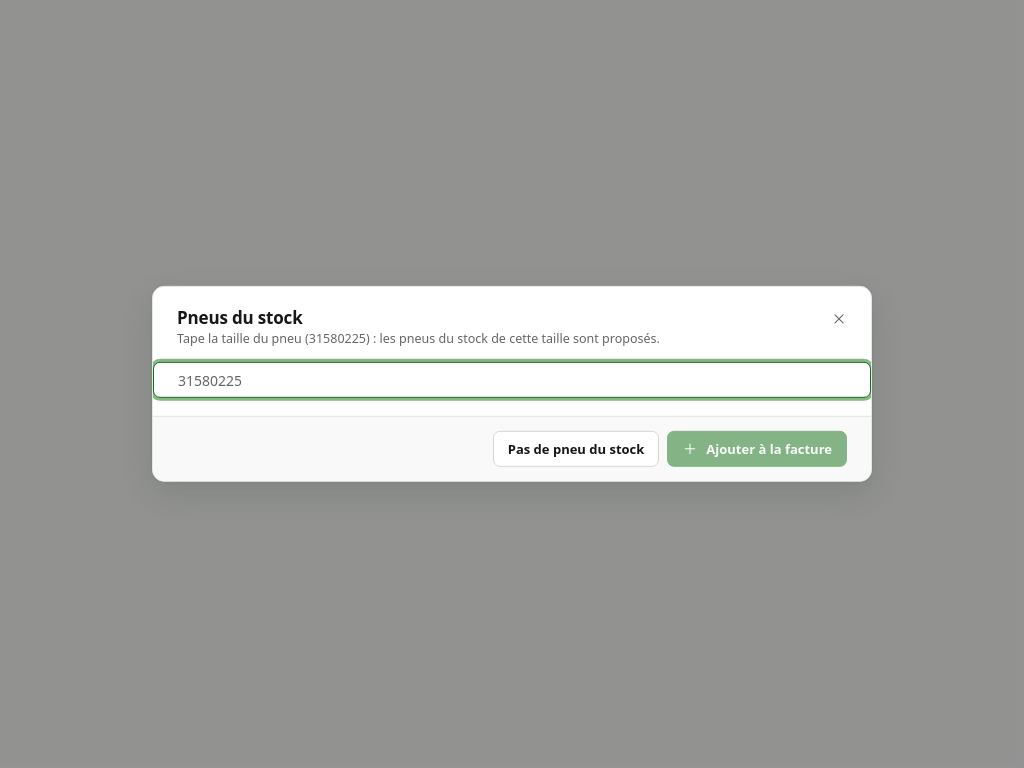
Test: pneus du stock au devis › sans fiche de contrôle : taille tapée
Type "2356516C" into the field named "Taille du pneu" at (512, 380), box x1=153 y1=362 x2=871 y2=398
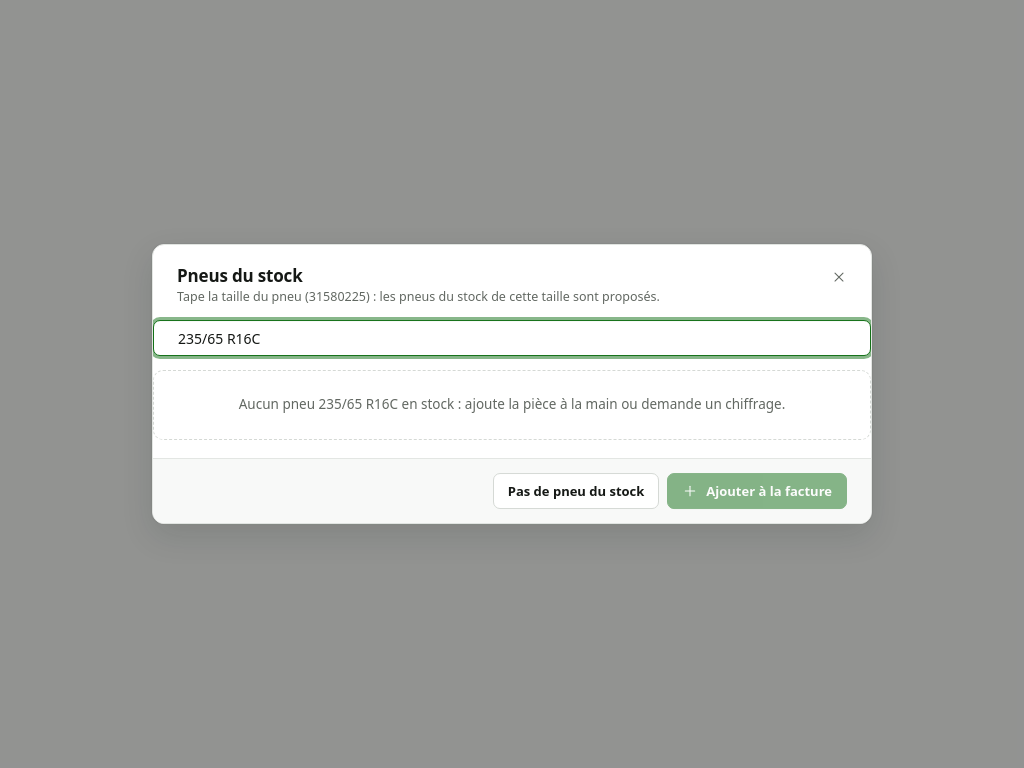
Expected: the button "Ajouter à la facture" is disabled, x1=667 y1=473 x2=847 y2=509
Expected: the text "Aucun pneu 235/65 R16C en stock" is shown, x1=153 y1=370 x2=871 y2=440
